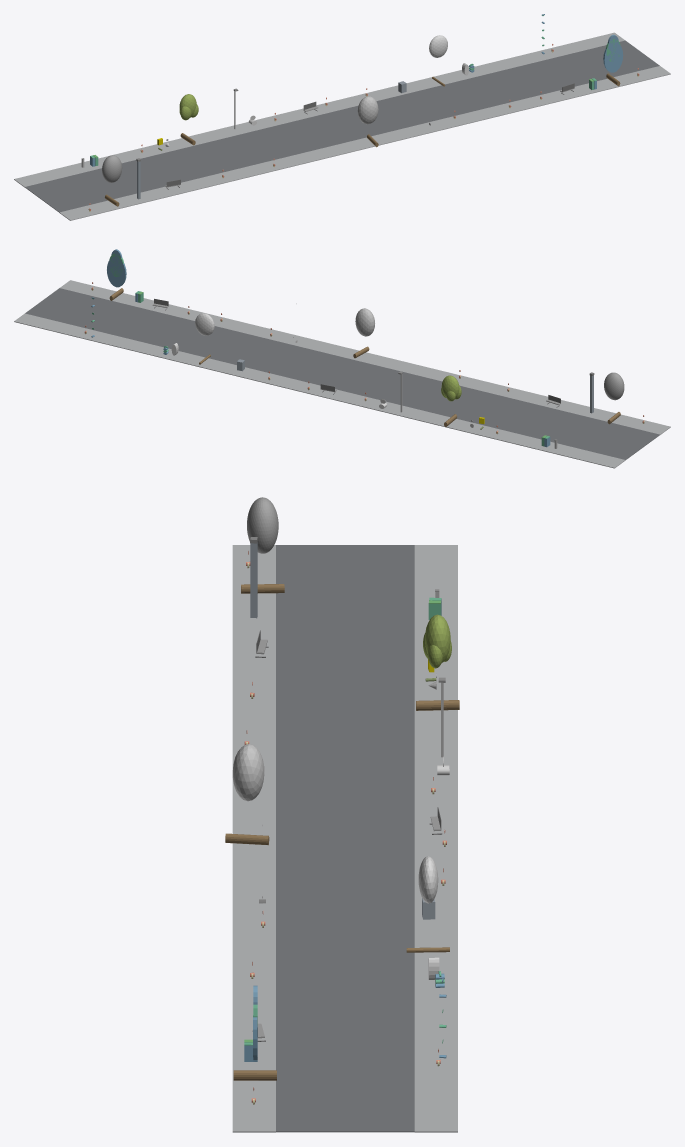
3 views of the same model, one above another, from view 1: azimuth 30°, elevation 25°; view 2: azimuth 150°, elevation 25°; view 3: azimuth 270°, elevation 25° (orthographic). The views are drawn at different scales.
Parts seen in each view (by area): view 1: road_slab, sidewalk_left, sidewalk_right, inst_0016, inst_0014, inst_0012, inst_0013, inst_0015; view 2: road_slab, sidewalk_right, sidewalk_left, inst_0016, inst_0012, inst_0014, inst_0013, inst_0015; view 3: road_slab, sidewalk_left, sidewalk_right, inst_0014, inst_0012, inst_0013, inst_0015.
Part boxes in pixels (<box>): road_slab: <box>25,40,659,212</box>; sidewalk_left: <box>59,66,670,220</box>; sidewalk_right: <box>14,32,624,187</box>; inst_0016: <box>603,34,623,86</box>; inst_0014: <box>357,96,378,147</box>; inst_0012: <box>102,155,122,206</box>; inst_0013: <box>179,94,198,145</box>; inst_0015: <box>429,35,447,86</box>; road_slab: <box>25,288,659,460</box>; sidewalk_right: <box>14,313,625,468</box>; sidewalk_left: <box>60,280,670,434</box>; inst_0016: <box>107,249,126,300</box>; inst_0012: <box>604,372,624,424</box>; inst_0014: <box>353,308,374,358</box>; inst_0013: <box>441,375,461,426</box>; inst_0015: <box>195,313,214,364</box>; road_slab: <box>276,545,414,1132</box>; sidewalk_left: <box>232,545,275,1132</box>; sidewalk_right: <box>414,545,457,1132</box>; inst_0014: <box>225,744,269,845</box>; inst_0012: <box>241,497,284,593</box>; inst_0013: <box>416,614,459,710</box>; inst_0015: <box>406,856,449,952</box>.
Size of the model in its own units: 80 by 6.08 by 13.51.
